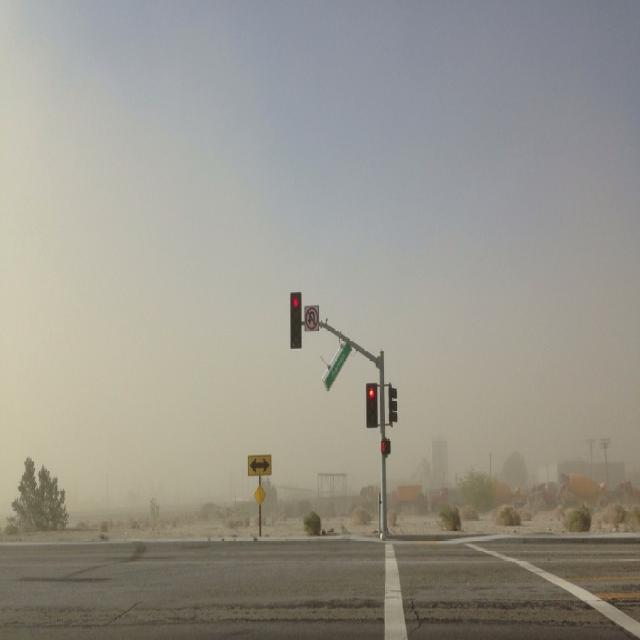traffic light: (365, 382, 378, 429), (292, 293, 301, 348)
